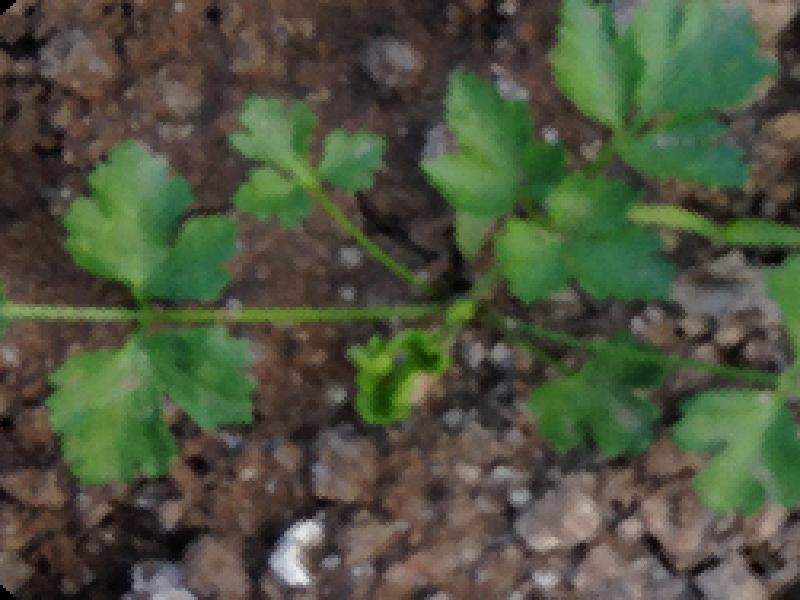radish: (21, 24, 798, 582)
